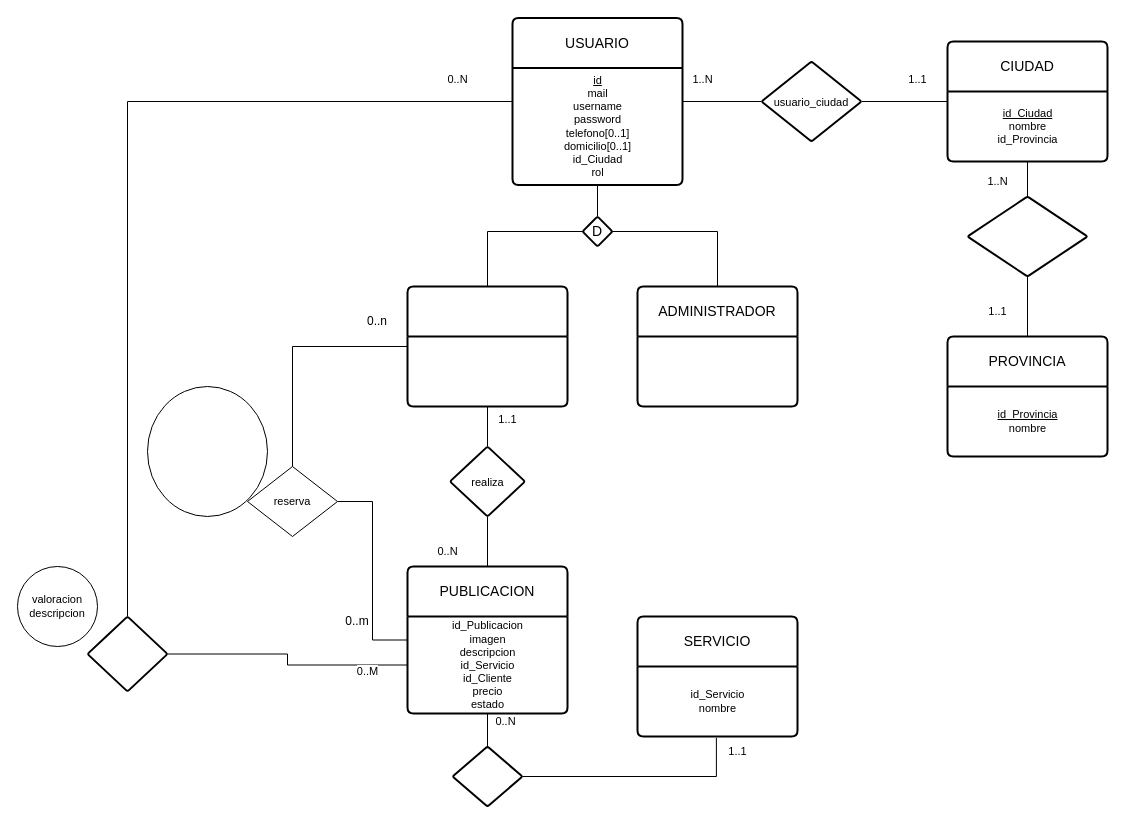
Some shapes in this 1126 by 825 pixel diagram are drawn without their labels. Each missing label, with the centre of its shape:
ciudad_provincia: the point at 1027,236
CLIENTE: the point at 487,346
id fecha_reserva estado precio notas[0..1] created_at[0..1] updated_at[0..1]: the point at 207,451
p_s: the point at 487,776
review: the point at 127,653
